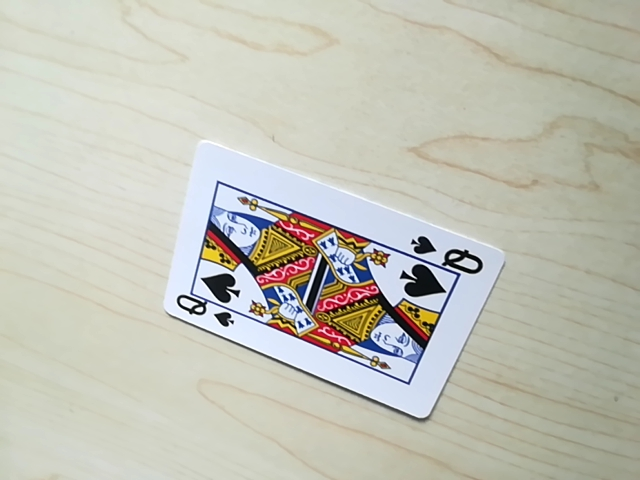ht q: (409, 235, 490, 273), (171, 290, 234, 330)
